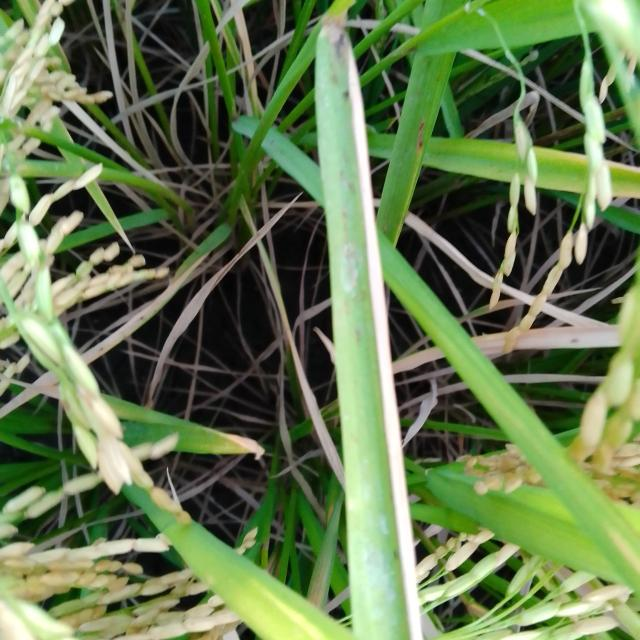Brown spot: (308, 12, 430, 640), (188, 424, 271, 466)
brown plant hopper: (333, 237, 368, 310)
insects: (356, 512, 406, 638), (331, 147, 360, 227), (329, 27, 354, 105), (353, 325, 365, 349), (390, 546, 401, 566), (567, 334, 582, 347)
